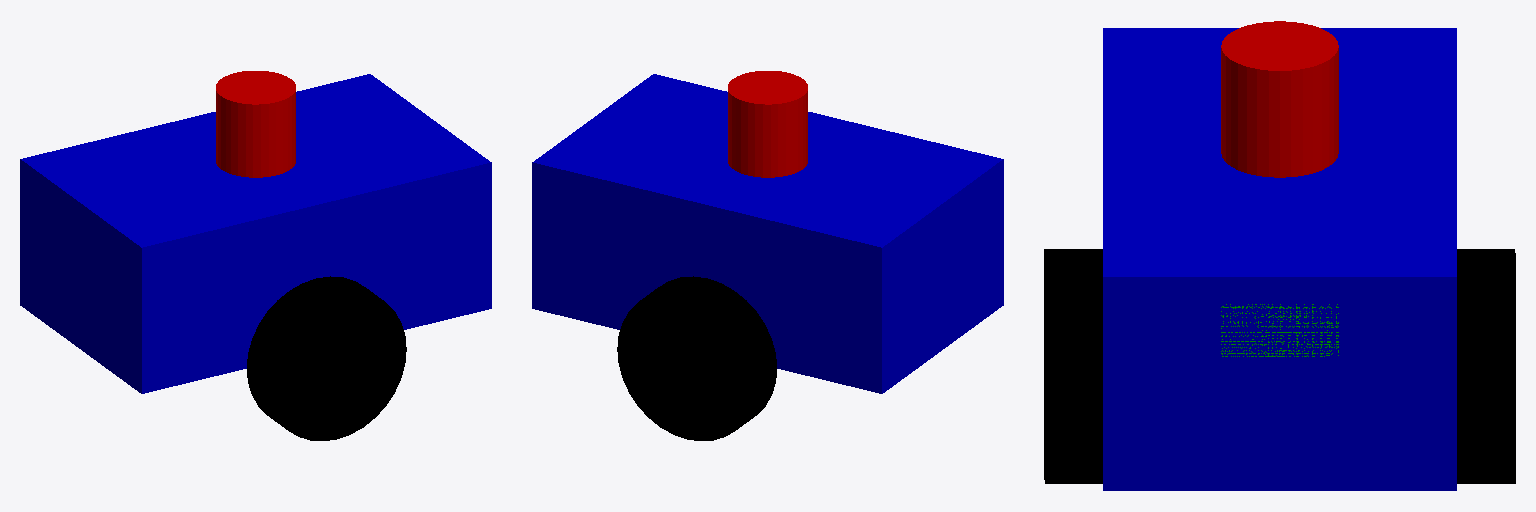
URDF robot description (lunabot):
<?xml version="1.0"?>
<robot name="lunabot" xmlns:xacro="http://www.ros.org/wiki/xacro">
  
  <!-- Base Link -->
  <link name="base_link">
    <visual>
      <geometry>
        <box size="0.5 0.3 0.2"/>
      </geometry>
      <material name="blue">
        <color rgba="0 0 0.8 1"/>
      </material>
    </visual>
    <collision>
      <geometry>
        <box size="0.5 0.3 0.2"/>
      </geometry>
    </collision>
    <inertial>
      <mass value="10"/>
      <inertia ixx="0.4" ixy="0" ixz="0" iyy="0.4" iyz="0" izz="0.2"/>
    </inertial>
  </link>

  <!-- Left Wheel -->
  <link name="left_wheel">
    <visual>
      <geometry>
        <cylinder radius="0.1" length="0.05"/>
      </geometry>
      <material name="black">
        <color rgba="0 0 0 1"/>
      </material>
    </visual>
    <collision>
      <geometry>
        <cylinder radius="0.1" length="0.05"/>
      </geometry>
    </collision>
    <inertial>
      <mass value="2"/>
      <inertia ixx="0.01" ixy="0" ixz="0" iyy="0.01" iyz="0" izz="0.02"/>
    </inertial>
  </link>

  <!-- Right Wheel -->
  <link name="right_wheel">
    <visual>
      <geometry>
        <cylinder radius="0.1" length="0.05"/>
      </geometry>
      <material name="black">
        <color rgba="0 0 0 1"/>
      </material>
    </visual>
    <collision>
      <geometry>
        <cylinder radius="0.1" length="0.05"/>
      </geometry>
    </collision>
    <inertial>
      <mass value="2"/>
      <inertia ixx="0.01" ixy="0" ixz="0" iyy="0.01" iyz="0" izz="0.02"/>
    </inertial>
  </link>

  <!-- Wheel Joints -->
  <joint name="left_wheel_joint" type="continuous">
    <parent link="base_link"/>
    <child link="left_wheel"/>
    <origin xyz="0 0.175 -0.1" rpy="-1.5707 0 0"/>
    <axis xyz="0 0 1"/>
  </joint>

  <joint name="right_wheel_joint" type="continuous">
    <parent link="base_link"/>
    <child link="right_wheel"/>
    <origin xyz="0 -0.175 -0.1" rpy="-1.5707 0 0"/>
    <axis xyz="0 0 1"/>
  </joint>

  <!-- LiDAR -->
  <link name="lidar_link">
    <visual>
      <geometry>
        <cylinder radius="0.05" length="0.1"/>
      </geometry>
      <material name="red">
        <color rgba="0.8 0 0 1"/>
      </material>
    </visual>
    <collision>
      <geometry>
        <cylinder radius="0.05" length="0.1"/>
      </geometry>
    </collision>
    <inertial>
      <mass value="0.5"/>
      <inertia ixx="0.001" ixy="0" ixz="0" iyy="0.001" iyz="0" izz="0.001"/>
    </inertial>
  </link>

  <joint name="lidar_joint" type="fixed">
    <parent link="base_link"/>
    <child link="lidar_link"/>
    <origin xyz="0 0 0.15" rpy="0 0 0"/>
  </joint>

  <!-- Camera -->
  <link name="camera_link">
    <visual>
      <geometry>
        <box size="0.1 0.1 0.05"/>
      </geometry>
      <material name="green">
        <color rgba="0 0.8 0 1"/>
      </material>
    </visual>
    <collision>
      <geometry>
        <box size="0.1 0.1 0.05"/>
      </geometry>
    </collision>
    <inertial>
      <mass value="0.3"/>
      <inertia ixx="0.001" ixy="0" ixz="0" iyy="0.001" iyz="0" izz="0.001"/>
    </inertial>
  </link>

  <joint name="camera_joint" type="fixed">
    <parent link="base_link"/>
    <child link="camera_link"/>
    <origin xyz="0.2 0 0.05" rpy="0 0 0"/>
  </joint>

  <!-- Gazebo Plugins -->
  <gazebo>
    <plugin name="differential_drive_controller" filename="libgazebo_ros_diff_drive.so">
      <ros>
        <namespace>/lunabot</namespace>
      </ros>
      <left_joint>left_wheel_joint</left_joint>
      <right_joint>right_wheel_joint</right_joint>
      <wheel_separation>0.35</wheel_separation>
      <wheel_diameter>0.2</wheel_diameter>
      <max_wheel_torque>20</max_wheel_torque>
      <max_wheel_acceleration>1.0</max_wheel_acceleration>
      <publish_odom>true</publish_odom>
      <publish_odom_tf>true</publish_odom_tf>
      <publish_wheel_tf>true</publish_wheel_tf>
      <odometry_frame>odom</odometry_frame>
      <robot_base_frame>base_link</robot_base_frame>
    </plugin>
  </gazebo>

  <gazebo reference="lidar_link">
    <plugin name="lidar_controller" filename="libgazebo_ros_ray_sensor.so">
      <ros>
        <namespace>/lunabot</namespace>
        <remapping>~/out:=scan</remapping>
      </ros>
      <output_type>sensor_msgs/LaserScan</output_type>
      <frame_name>lidar_link</frame_name>
    </plugin>
  </gazebo>

  <gazebo reference="camera_link">
    <plugin name="camera_controller" filename="libgazebo_ros_camera.so">
      <ros>
        <namespace>/lunabot</namespace>
        <remapping>image_raw:=camera/image_raw</remapping>
        <remapping>camera_info:=camera/camera_info</remapping>
      </ros>
      <camera_name>camera</camera_name>
      <frame_name>camera_link</frame_name>
    </plugin>
  </gazebo>

</robot>

--- Facts derived from the render (not from the file) ---
Views: 3 orthographic renders of the robot side by side, from view 1: azimuth 30°, elevation 25°; view 2: azimuth 150°, elevation 25°; view 3: azimuth 270°, elevation 25°.
Robot: lunabot — 5 links, 4 joints (2 continuous, 2 fixed); root link base_link; default pose: every joint at zero.
Visible links, largest first — view 1: base_link, right_wheel, lidar_link; view 2: base_link, left_wheel, lidar_link; view 3: base_link, lidar_link, left_wheel, right_wheel, camera_link.
Boxes of the visible links, <box> form: base_link: <box>20,74,491,393</box>; right_wheel: <box>247,276,406,440</box>; lidar_link: <box>216,71,295,177</box>; base_link: <box>532,74,1003,393</box>; left_wheel: <box>617,276,776,440</box>; lidar_link: <box>728,71,807,177</box>; base_link: <box>1103,28,1456,490</box>; lidar_link: <box>1221,21,1338,177</box>; left_wheel: <box>1457,249,1515,483</box>; right_wheel: <box>1044,249,1102,483</box>; camera_link: <box>1221,304,1338,356</box>.
Size in the robot's own frame: 0.5 by 0.4 by 0.4 metres.
Geometry: primitives only (box / cylinder / sphere), no mesh files.